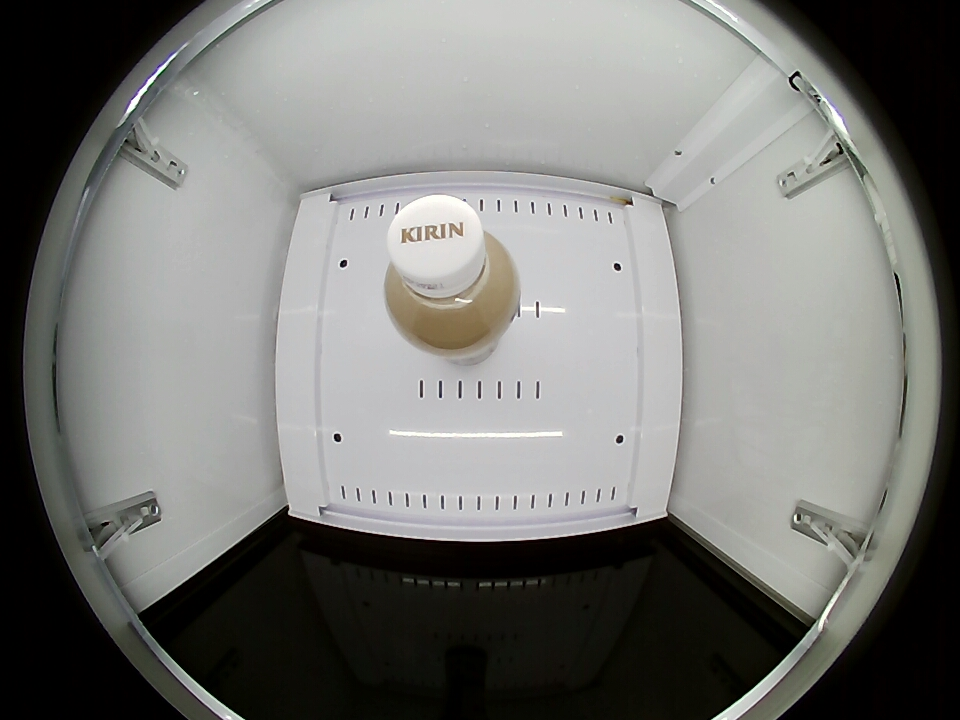wuhounaicha: (383, 194, 519, 353)
